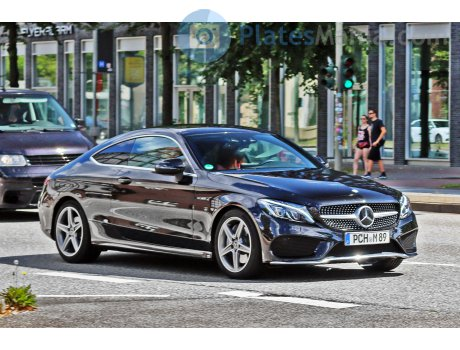License Plates: (353, 230, 393, 239)
